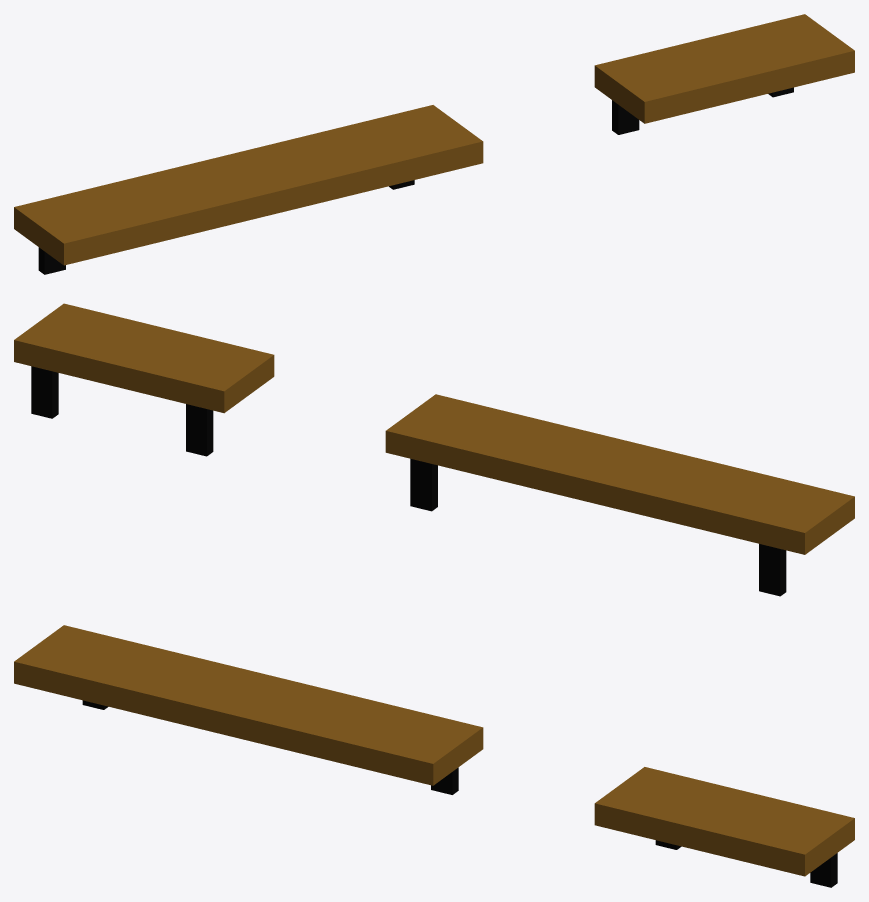
File: WallShelves.fbx
3 views of the same model, one above another, from view 1: azimuth 30°, elevation 25°; view 2: azimuth 150°, elevation 25°; view 3: azimuth 330°, elevation 25° (orthographic).
Parts seen in each view (by area): view 1: ShelfLarge, ShelfSmall; view 2: ShelfLarge, ShelfSmall; view 3: ShelfLarge, ShelfSmall.
Boxes of the visible parts, left/top/right/bottom form: ShelfLarge: left=14, top=105, right=483, bottom=274; ShelfSmall: left=594, top=14, right=854, bottom=134; ShelfLarge: left=385, top=394, right=854, bottom=596; ShelfSmall: left=14, top=303, right=274, bottom=456; ShelfLarge: left=14, top=625, right=483, bottom=794; ShelfSmall: left=594, top=767, right=854, bottom=887.
Size of the model in its own units: 227 by 19.01 by 24.79.
